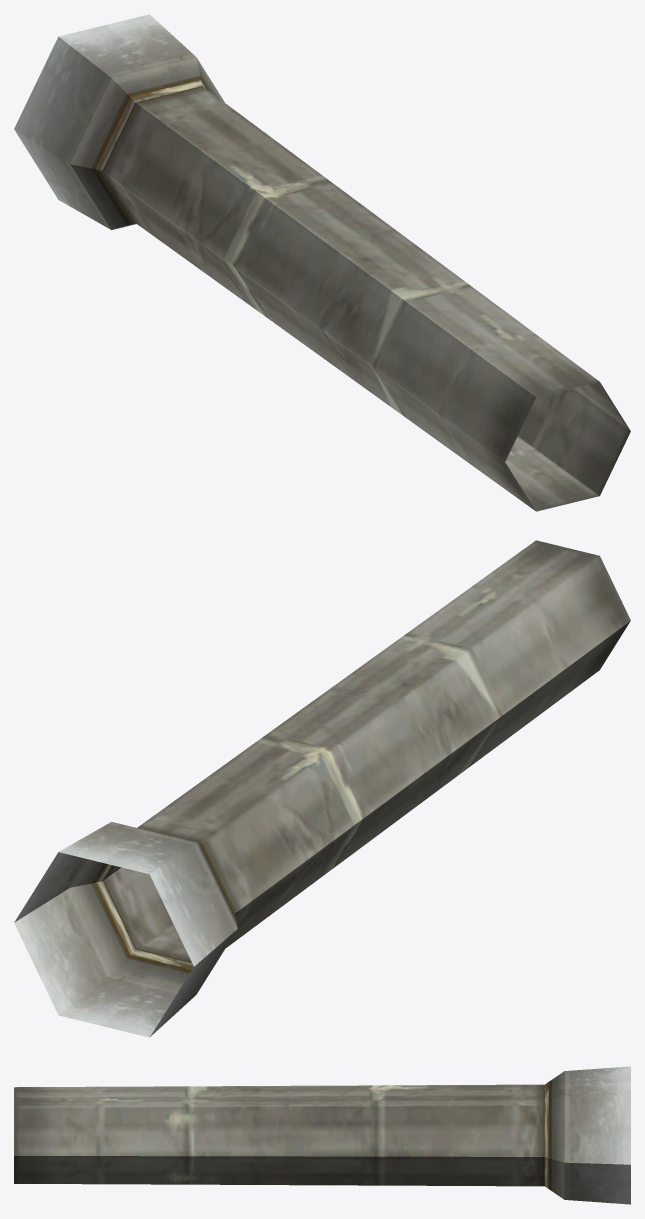
File: zhongbu_fuben_207_smallzhuzi_1.obj
The picture shows the model from 3 angles, top to bottom: view 1: azimuth 30°, elevation 25°; view 2: azimuth 150°, elevation 25°; view 3: azimuth 270°, elevation 25°; orthographic projection. The views are drawn at different scales.
Parts seen in each view (by area): view 1: Object01; view 2: Object01; view 3: Object01.
Part boxes in pixels (x1,y1,x2,y2): Object01: [14, 14, 630, 511]; Object01: [14, 540, 630, 1037]; Object01: [14, 1066, 630, 1204].
Bounding box in the file's own units: 37.19 × 32.25 × 166.
Materials: 1 (1 with a texture image).
